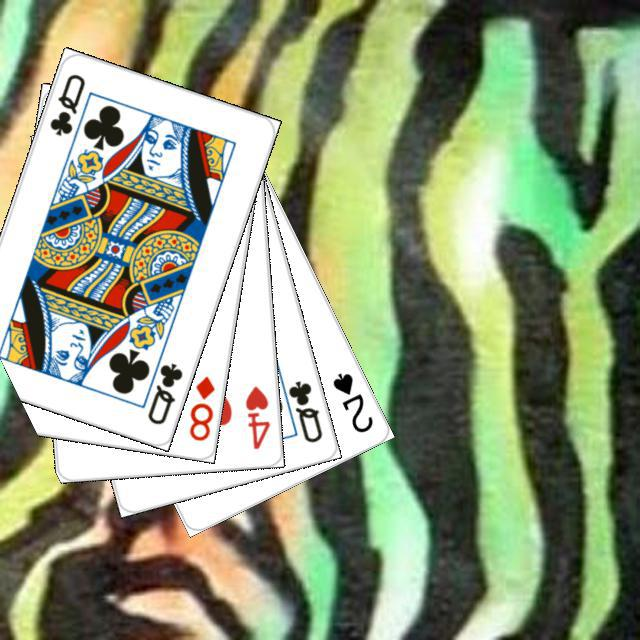2s: (327, 368, 375, 435)
4h: (240, 381, 272, 451)
8d: (184, 371, 217, 443)
Qc: (134, 347, 185, 427), (275, 373, 324, 445), (44, 68, 87, 138)
